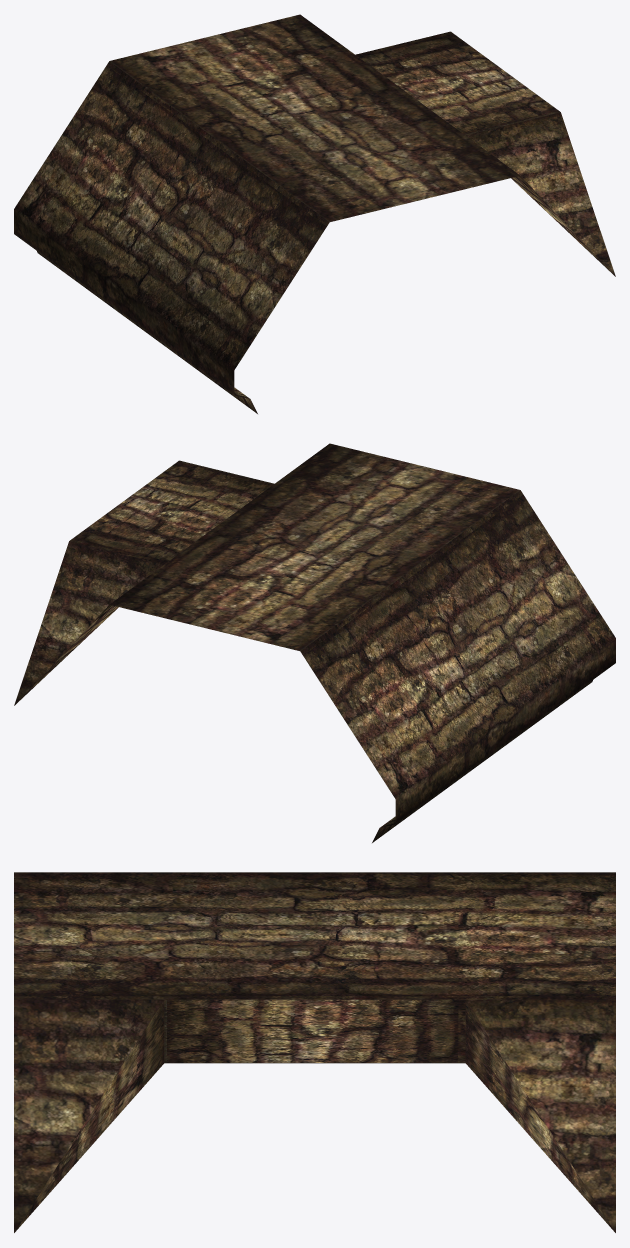
Rendered from corridor_arched_T_cross.dae.
The picture shows the model from 3 angles, top to bottom: view 1: azimuth 30°, elevation 25°; view 2: azimuth 150°, elevation 25°; view 3: azimuth 270°, elevation 25°; orthographic projection. The views are drawn at different scales.
Visible parts, largest first — view 1: polySurface4; view 2: polySurface4; view 3: polySurface4.
Part boxes in pixels (x1,y1,x2,y2): polySurface4: (14, 14, 615, 413); polySurface4: (14, 443, 615, 842); polySurface4: (14, 872, 615, 1232).
Size of the model in its own units: 4 by 1.75 by 4.
